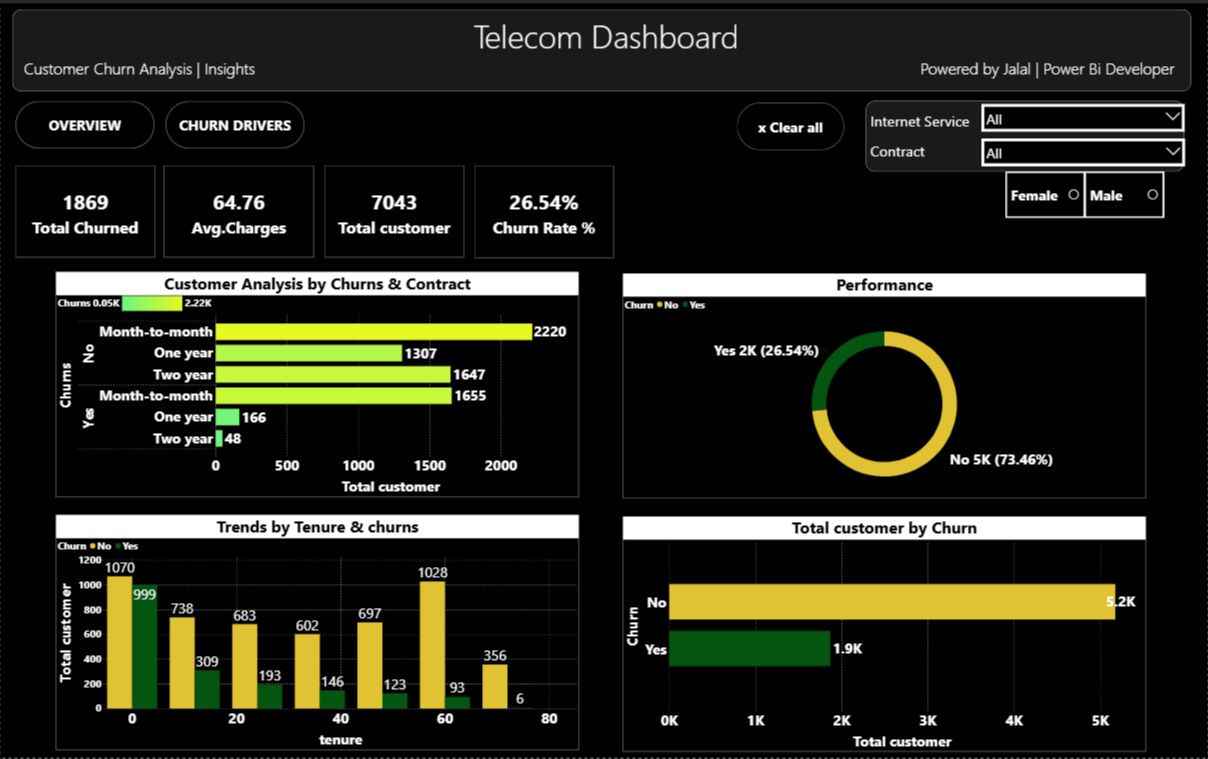

The dashboard page shown, as its layout file describes it:
{"tool":"powerbi","page":{"name":"TELECOM DASHBOARD","canvas":[4000,2500],"ordinal":0},"visuals":[{"type":"textbox","box":[38.8,19.4,3907.9,271.5],"z":0},{"type":"actionButton","box":[49.7,321.7,461.5,158.1],"z":0,"group":"g1"},{"type":"textbox","box":[2871.3,325.3,1054.4,233.8],"z":0,"group":"g2"},{"type":"actionButton","box":[545.1,321.7,461.5,158.1],"z":1000,"group":"g1"},{"type":"slicer","fields":{"Values":["churn_dashboard_data_decoded.InternetService"]},"box":[3255.3,337.3,673.9,92.1],"z":1000,"group":"g2"},{"type":"card","fields":{"Values":["Table.Total churned customers"]},"box":[50.8,536.5,463.1,305],"z":1000},{"type":"actionButton","box":[2439.8,327.6,355.8,158.1],"z":2000},{"type":"slicer","fields":{"Values":["churn_dashboard_data_decoded.Contract"]},"box":[3256.2,447.8,675,92.5],"z":2000,"group":"g2"},{"type":"advancedSlicerVisual","fields":{"Values":["churn_dashboard_data_decoded.gender"]},"box":[3330.2,557,527.2,154.2],"z":7000},{"type":"group","id":"g1","title":"Group 2","box":[49.7,321.7,956.9,158.1],"z":8000},{"type":"group","id":"g2","title":"Group 3","box":[2871.3,325.3,1059.9,233.8],"z":9000},{"type":"card","fields":{"Values":["Table.avg monthly charges"]},"box":[542.2,536.5,497,305],"z":10000},{"type":"card","fields":{"Values":["Table.Total customer"]},"box":[1073.1,536.5,463.1,305],"z":11000},{"type":"card","fields":{"Values":["Table.Churn Rate %"]},"box":[1573.5,537.7,462,306.8],"z":12000},{"type":"columnChart","title":"Avg.Monthly Charges vs Churns","fields":{"Category":["churn_dashboard_data_decoded.Churn"],"Y":["Avg(churn_dashboard_data_decoded.MonthlyCharges)"]},"box":[146.8,920.6,1728.2,745.5],"z":13000},{"type":"clusteredColumnChart","title":"% of Churns","fields":{"Category":["churn_dashboard_data_decoded.tenure (bins)"],"Y":["Table.Churn Rate %"]},"box":[2125,920,1730,745],"z":14000},{"type":"clusteredBarChart","title":"Features Affecting Churns","fields":{"Y":["Sum(importances.Importance)"],"Category":["importances.Feature"]},"box":[148.4,1749.2,3707.1,750.3],"z":15000}]}

Visuals, with their boxes in screenshot pixels (x1, y1, x2, y2), scaled from the page's 4000x2500 canvas onto the 1208x759 screenshot:
textbox: x1=12 y1=6 x2=1192 y2=88
actionButton: x1=15 y1=98 x2=154 y2=146
textbox: x1=867 y1=99 x2=1186 y2=170
actionButton: x1=165 y1=98 x2=304 y2=146
slicer - churn_dashboard_data_decoded.InternetService: x1=983 y1=102 x2=1187 y2=130
card - Table.Total churned customers: x1=15 y1=163 x2=155 y2=255
actionButton: x1=737 y1=99 x2=844 y2=147
slicer - churn_dashboard_data_decoded.Contract: x1=983 y1=136 x2=1187 y2=164
advancedSlicerVisual - churn_dashboard_data_decoded.gender: x1=1006 y1=169 x2=1165 y2=216
"Group 2" group: x1=15 y1=98 x2=304 y2=146
"Group 3" group: x1=867 y1=99 x2=1187 y2=170
card - Table.avg monthly charges: x1=164 y1=163 x2=314 y2=255
card - Table.Total customer: x1=324 y1=163 x2=464 y2=255
card - Table.Churn Rate %: x1=475 y1=163 x2=615 y2=256
"Avg.Monthly Charges vs Churns" columnChart: x1=44 y1=279 x2=566 y2=506
"% of Churns" clusteredColumnChart: x1=642 y1=279 x2=1164 y2=505
"Features Affecting Churns" clusteredBarChart: x1=45 y1=531 x2=1164 y2=758
